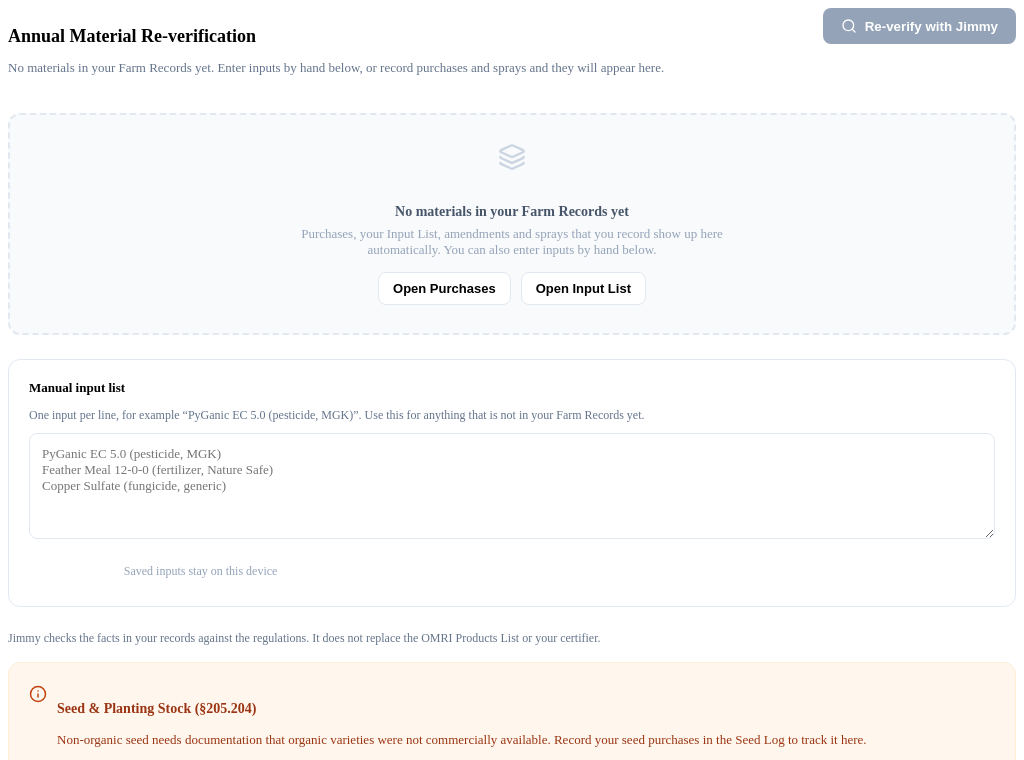
Scenario: InputVerification: asking Jimmy › can verify with only a hand-typed list
In the text box labelled "Manual input list": (512, 486) [29,433,995,539], type "Copper sulfate"
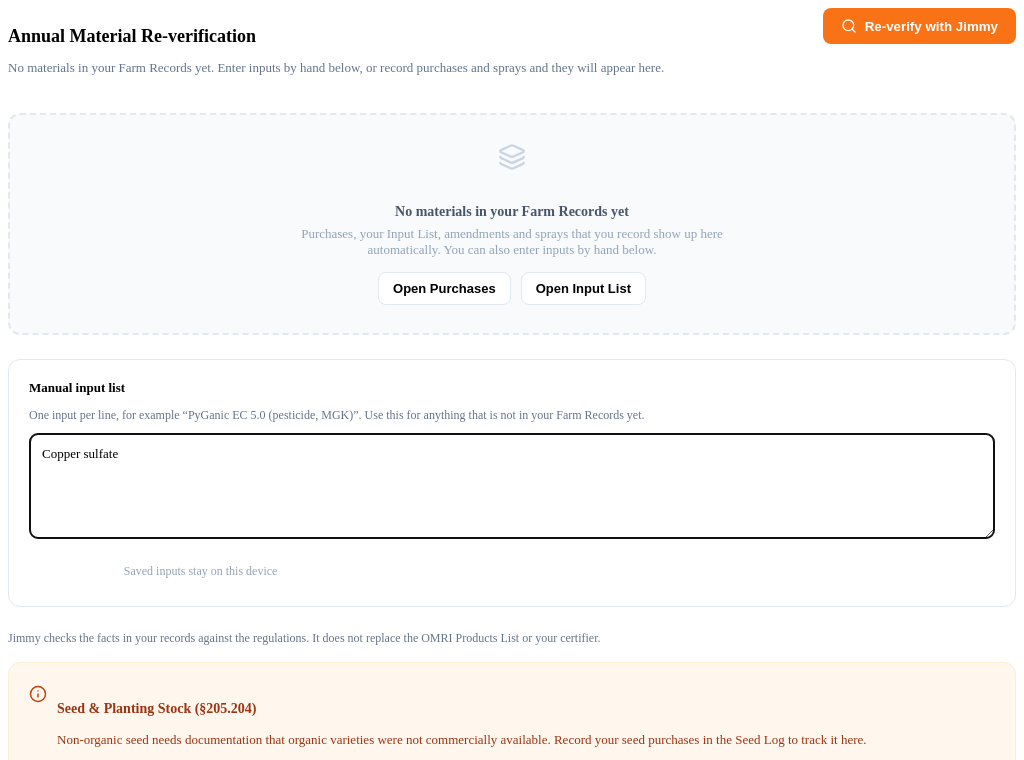
Now the button "Re-verify with Jimmy" is enabled
Click the button "Re-verify with Jimmy": (919, 26) [823,8,1016,44]
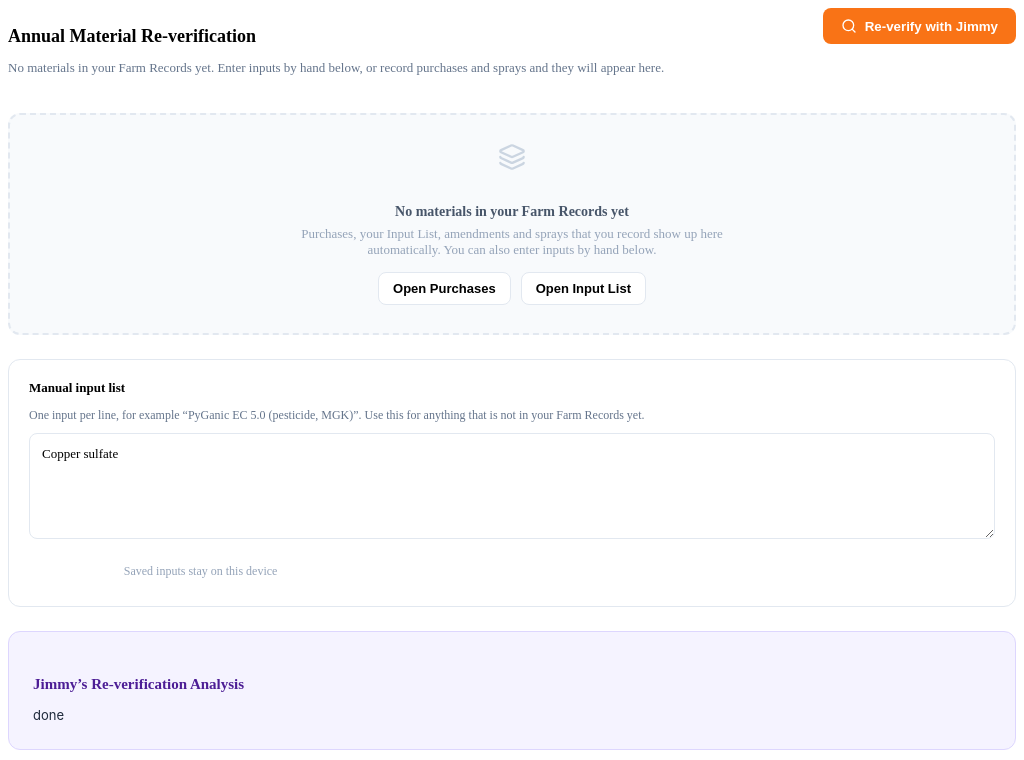
Now the text "done" is shown, box [33,706,64,722]
